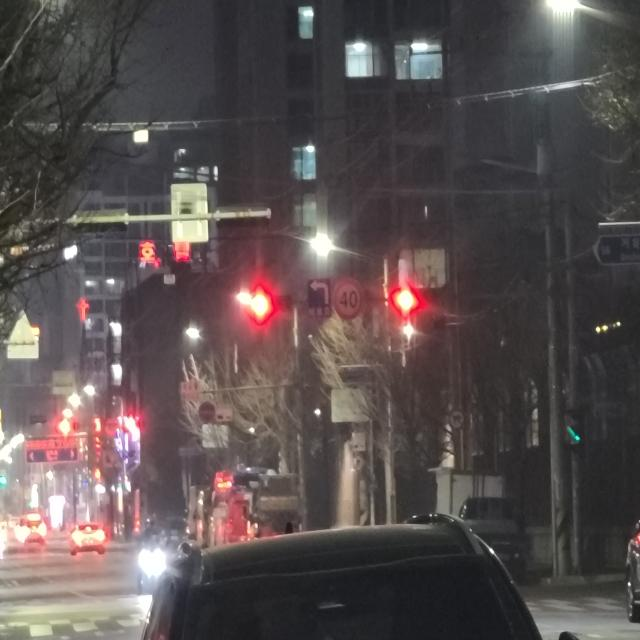Red Light: (396, 288, 416, 313), (250, 292, 270, 316)
